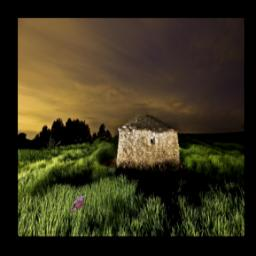Cuckoo: (69, 195, 88, 213)
